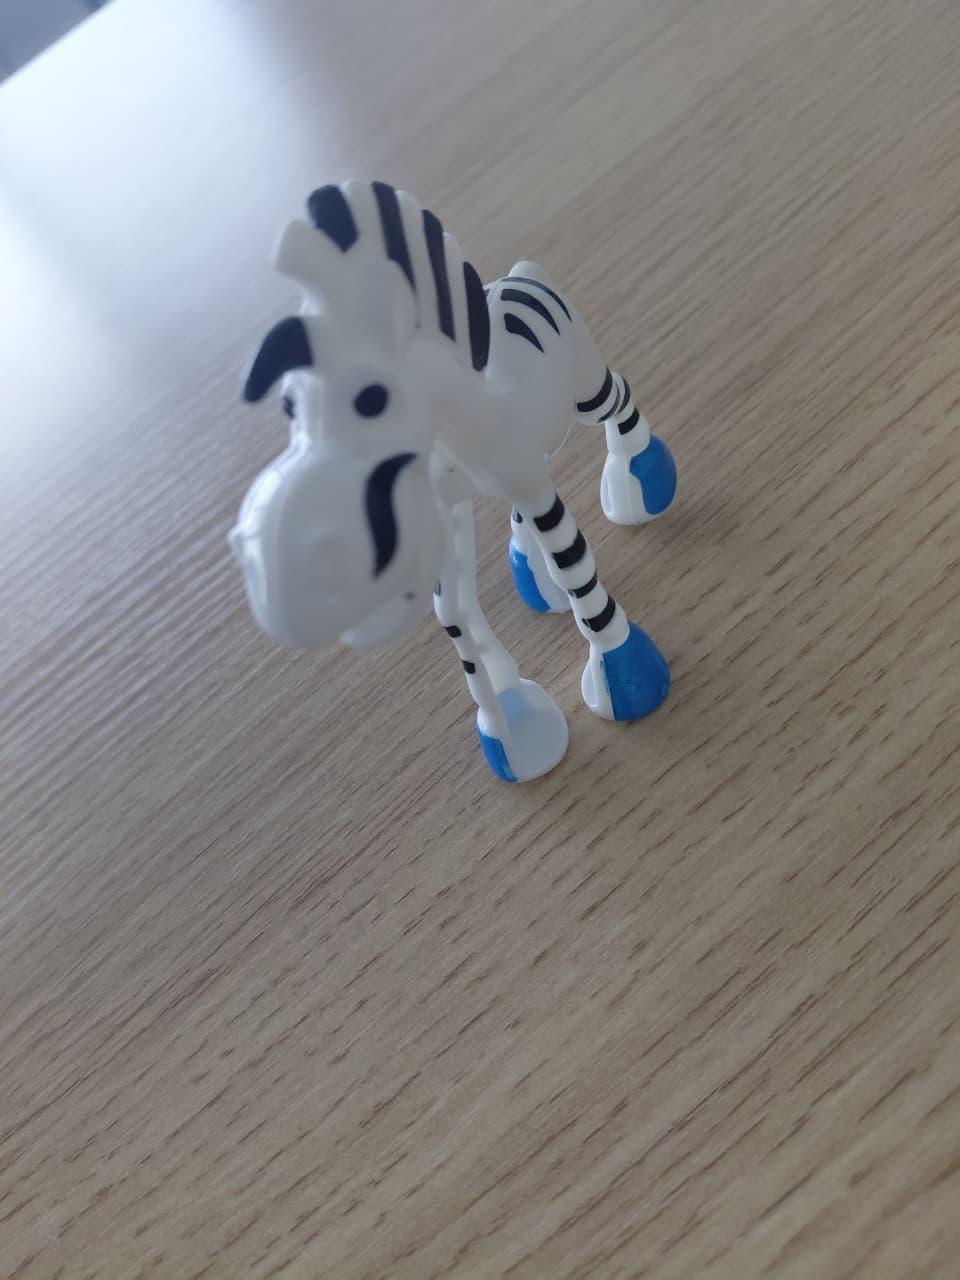zebra: (183, 128, 818, 820)
